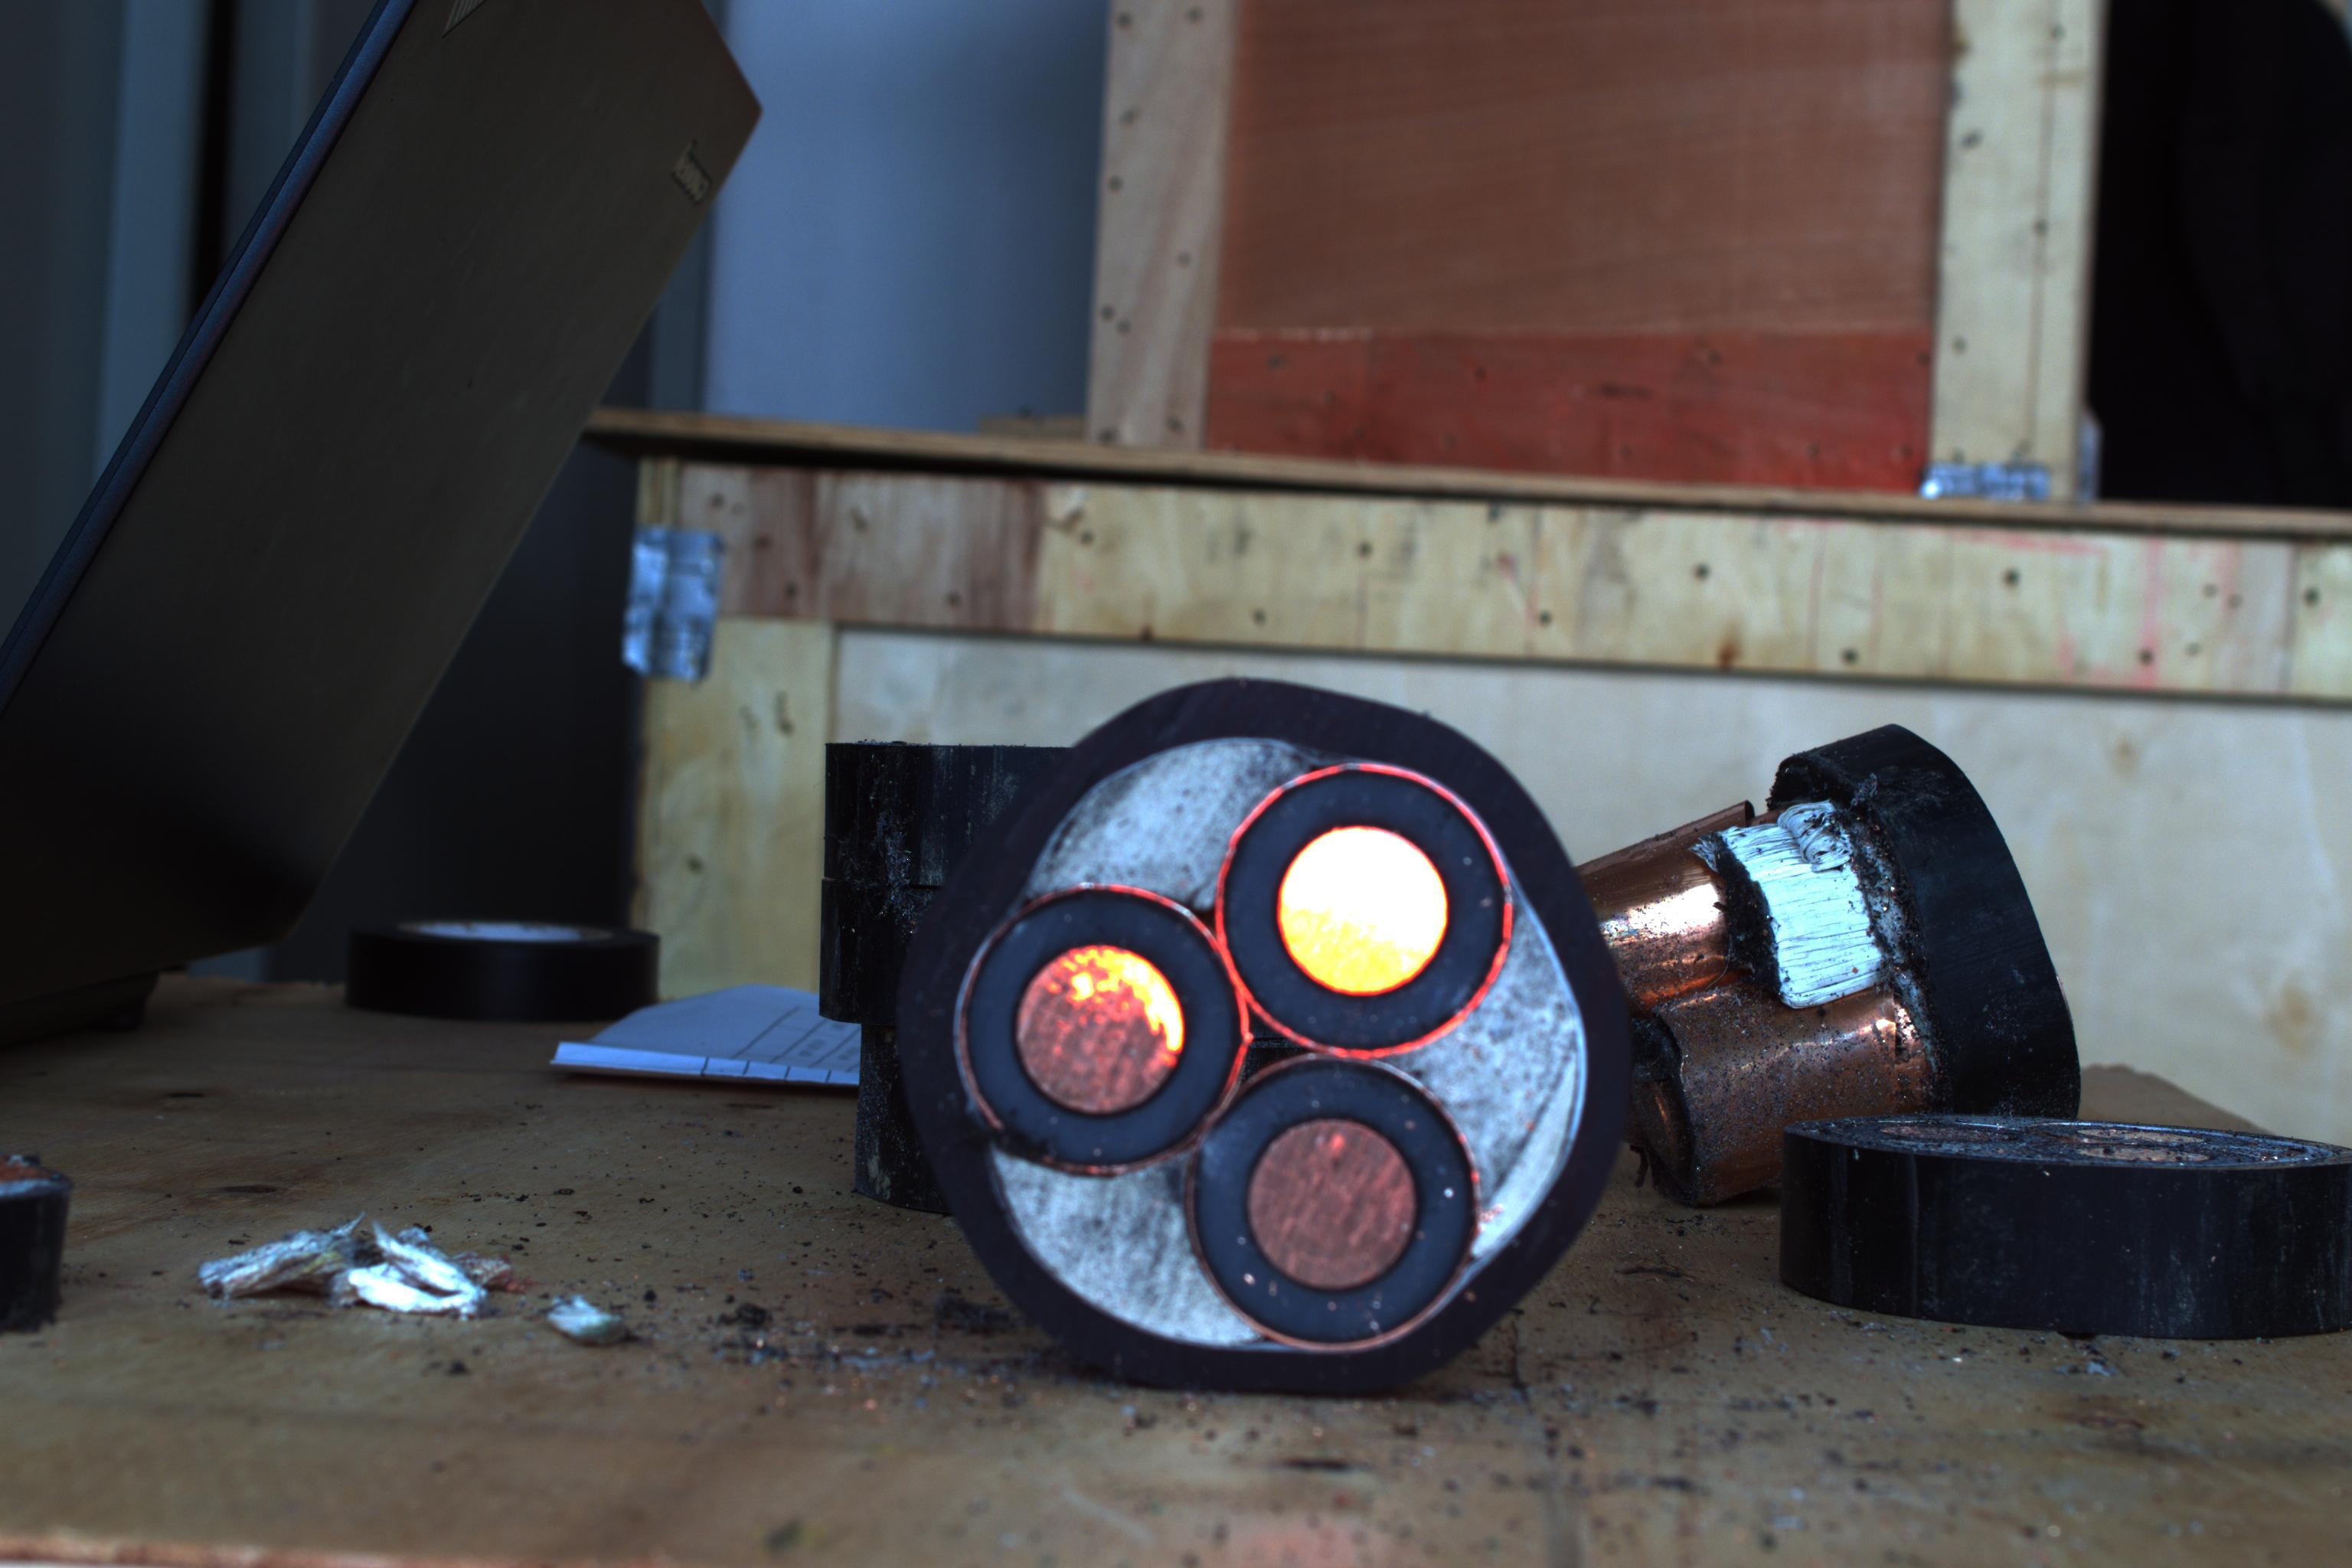ZA_YJV_8.7_10kV_3x240: (964, 682, 1612, 1389)
